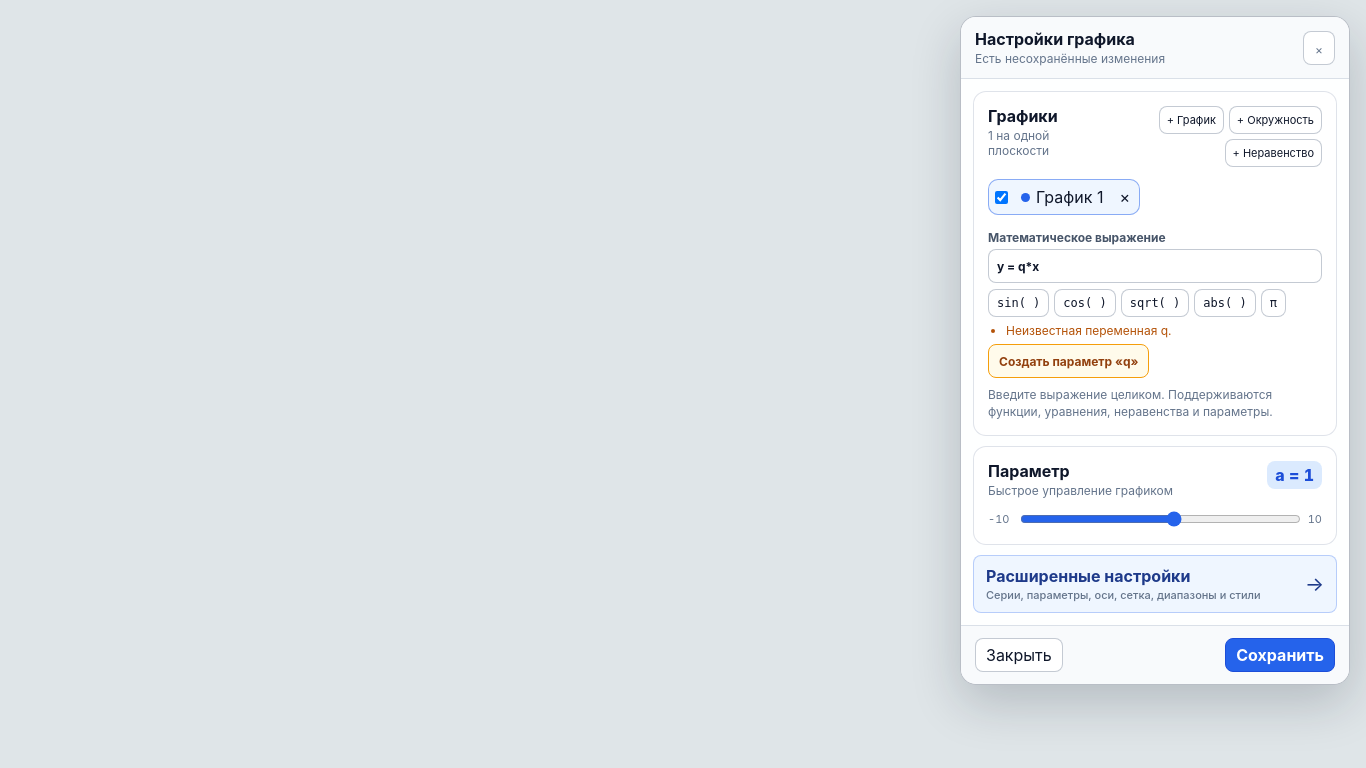
Test: CoordinatePlotEditorPanel › creates an unknown parameter, opens its tab and focuses its name
Click the button "Расширенные настройки". click: (1155, 584)
box: [973, 555, 1337, 613]
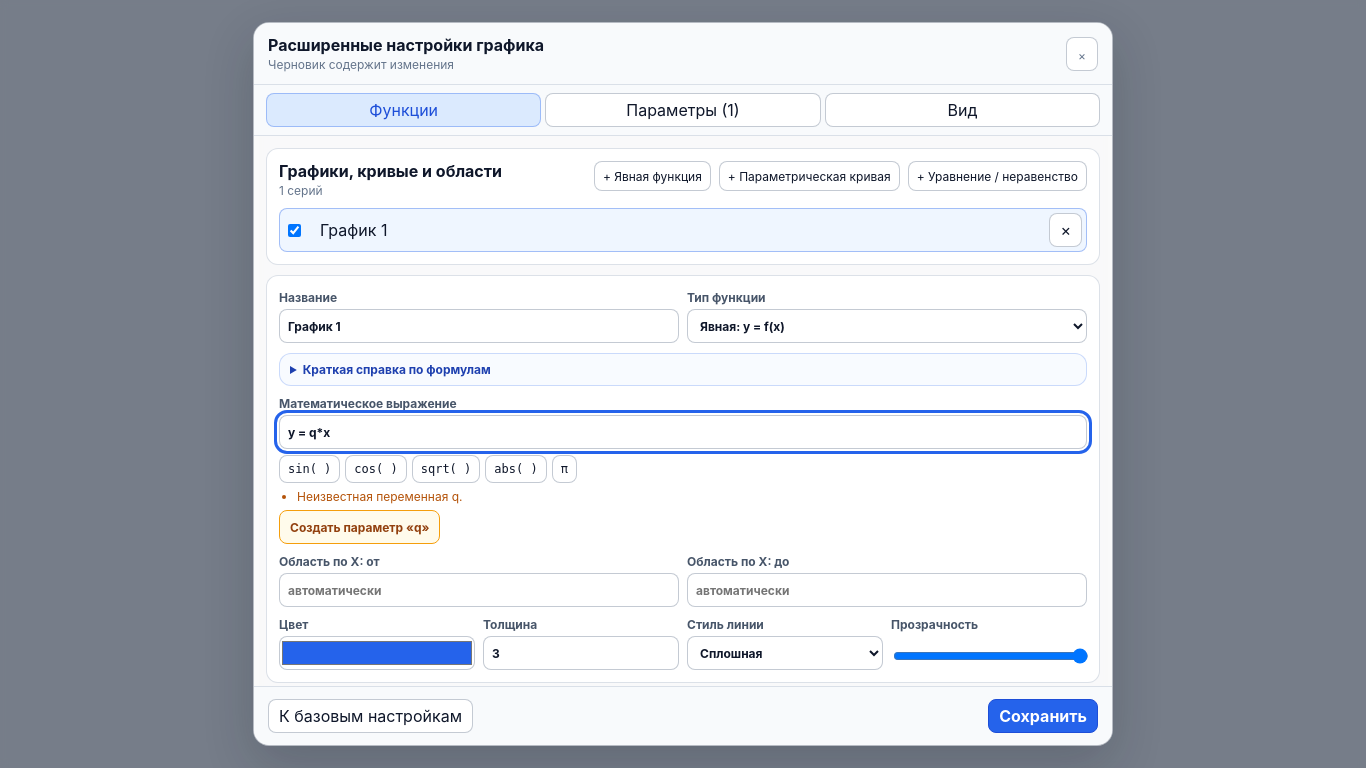
Click the button "Создать параметр «q»". click: (360, 527)
box: [279, 510, 440, 544]
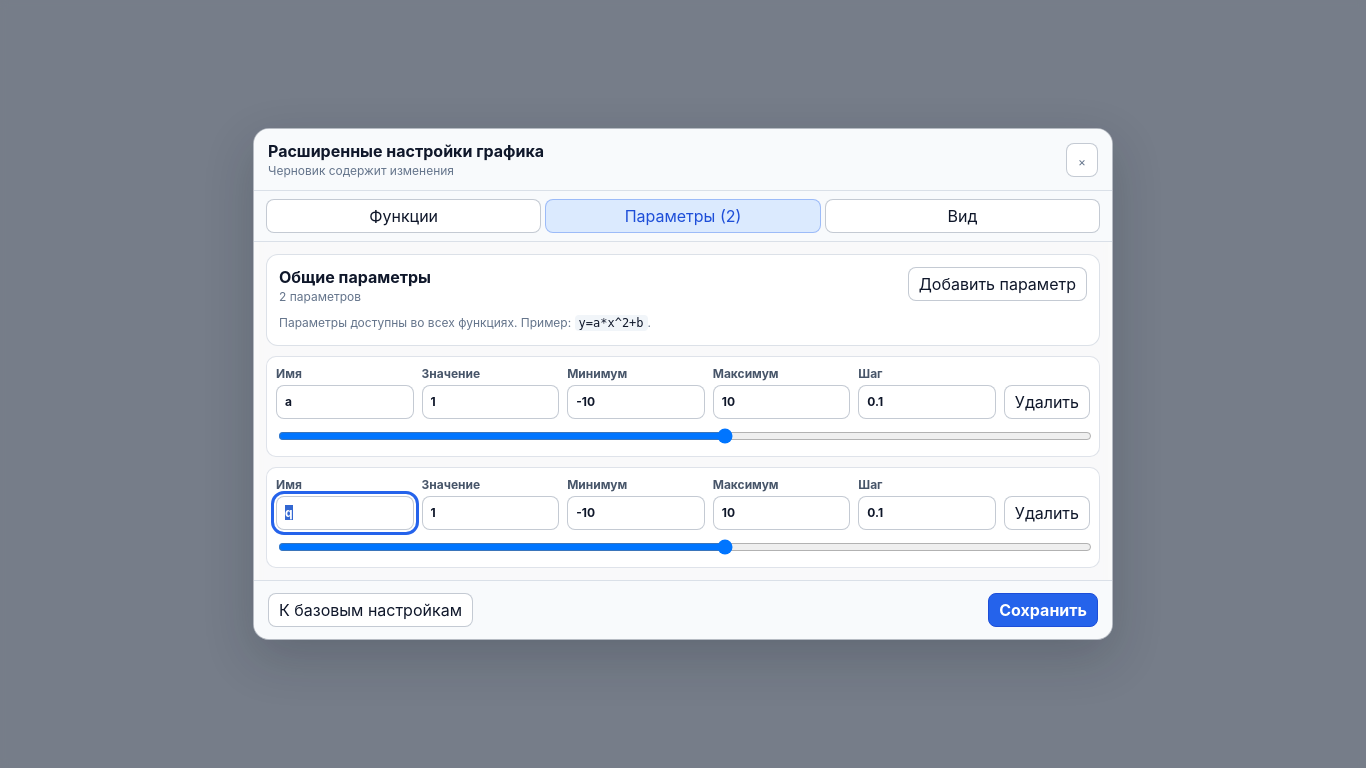
Now the field named "Имя параметра harness-parameter-1" holds "q", box [276, 496, 414, 530]
